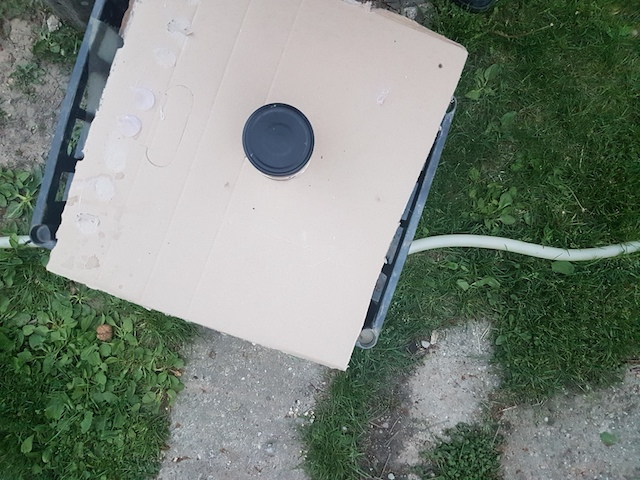recipient: (242, 102, 316, 178)
